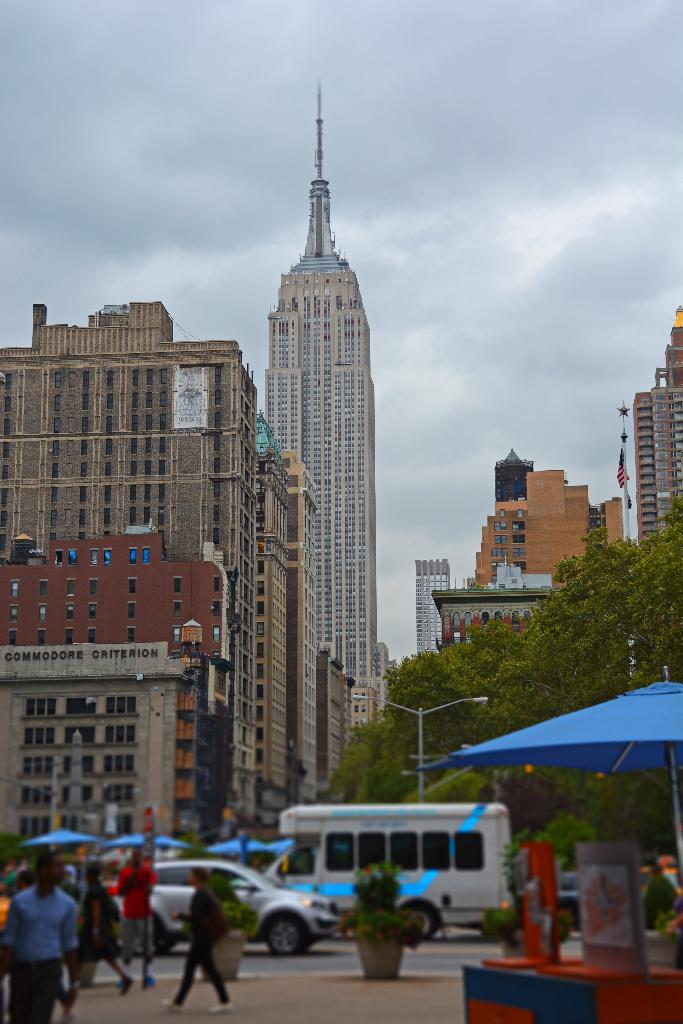Footwear: (110, 973, 138, 994), (131, 973, 158, 989), (158, 996, 179, 1010), (212, 1001, 235, 1012)
